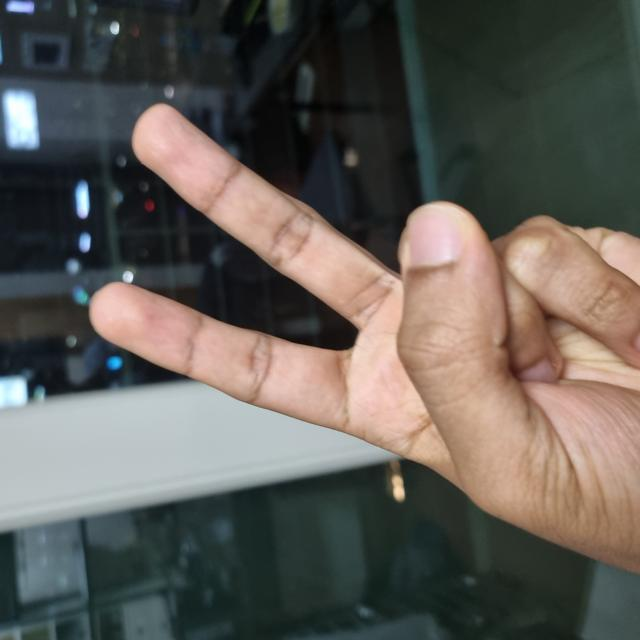Scissors: (39, 92, 531, 639)
